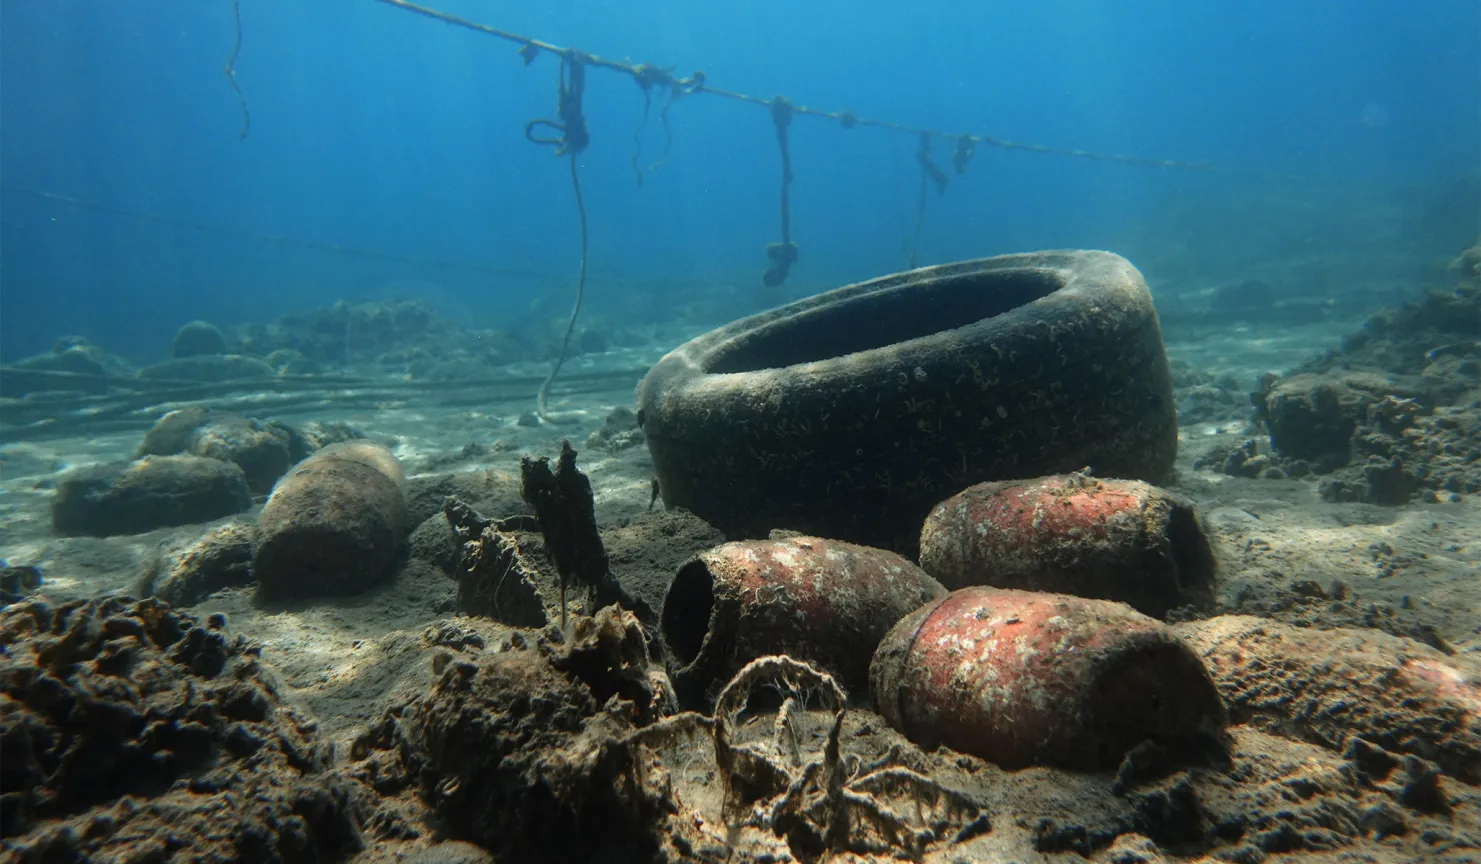Metal: (880, 566, 1222, 773), (646, 529, 952, 706), (917, 460, 1223, 606), (261, 420, 420, 597), (50, 444, 257, 540), (152, 392, 300, 482)
